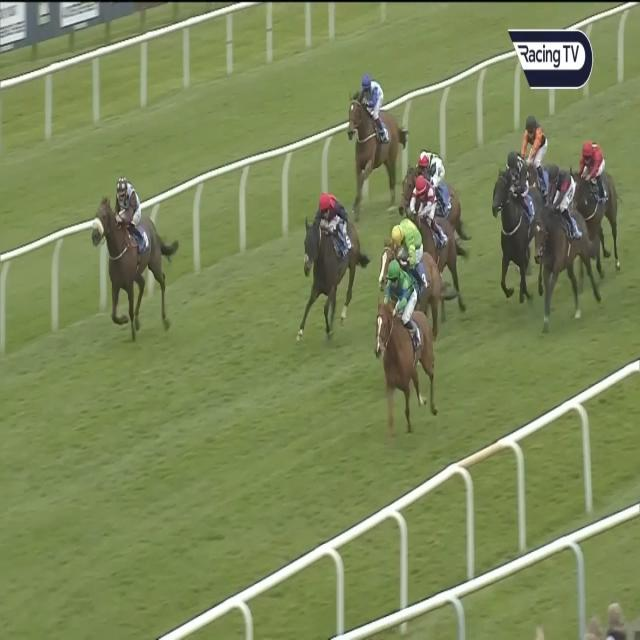horses-racing: (89, 172, 181, 334), (376, 260, 434, 410), (302, 189, 358, 319), (487, 152, 540, 286), (347, 76, 404, 186), (543, 158, 578, 321), (401, 178, 460, 262), (382, 220, 444, 289), (399, 150, 461, 218), (574, 133, 621, 207), (517, 118, 555, 179)
